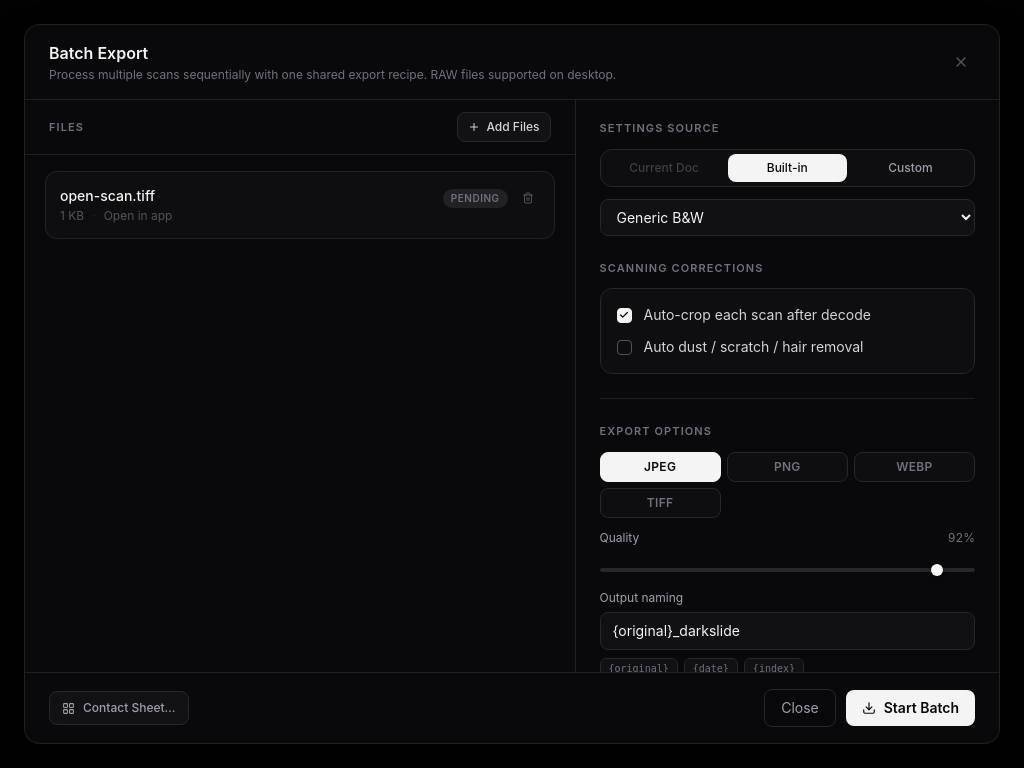
Test: BatchModal › shows a warning for custom presets with embedded crop
Expected: the text "open-scan.tiff" is shown, [60,187,155,204]
Click the button "Custom".
click(910, 168)  # box [851,154,970,182]
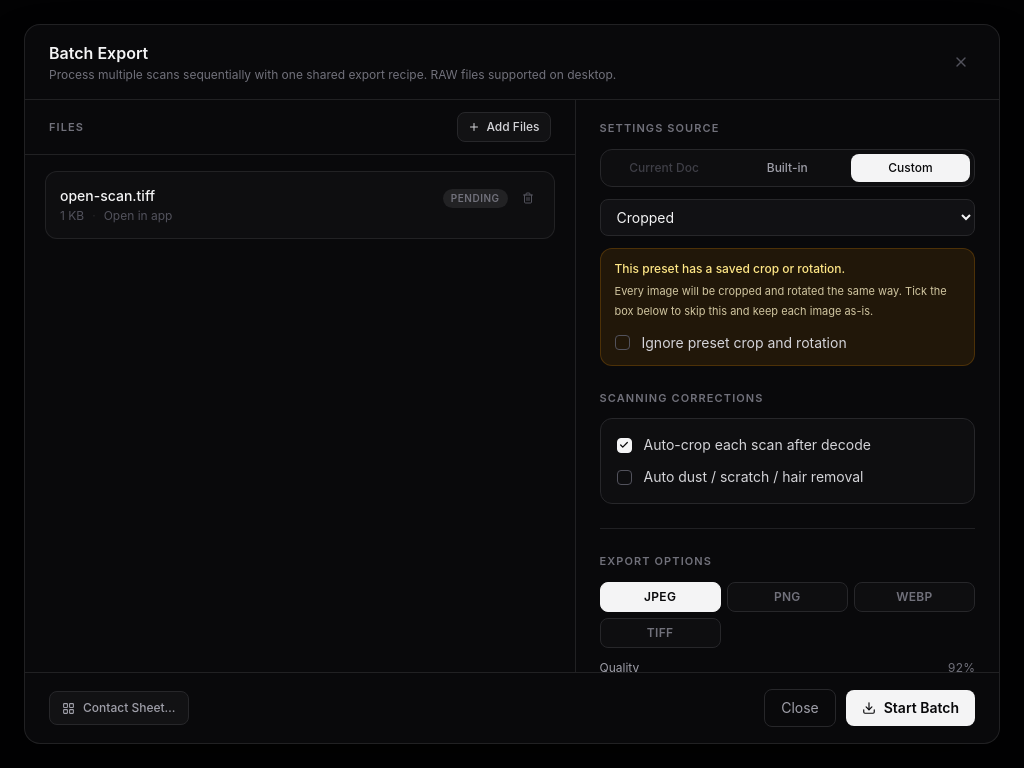
Now the text "This preset has a saved crop or rotation." is shown, box [614,260,845,276]
